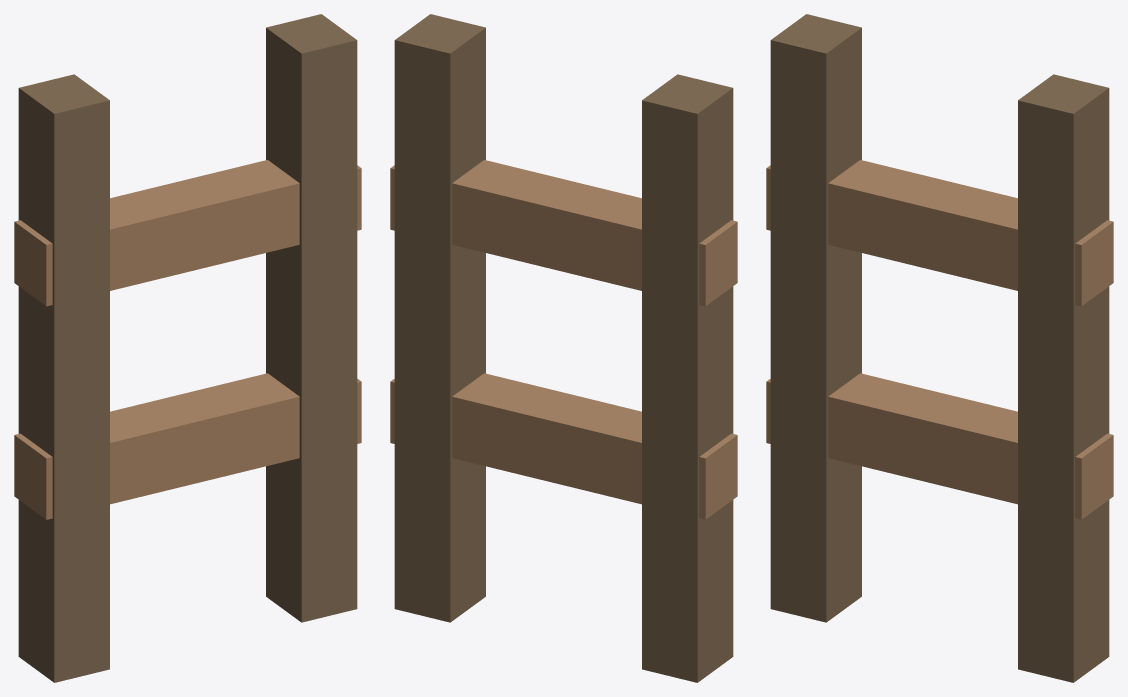
File: fence.wood-old.glb
The picture shows the model from 3 angles, left to right: view 1: azimuth 30°, elevation 25°; view 2: azimuth 150°, elevation 25°; view 3: azimuth 330°, elevation 25°; orthographic projection.
Parts seen in each view (by area): view 1: fence post; view 2: fence post; view 3: fence post.
Part boxes in pixels (box(x1,y1,x2,y2)): fence post: box(14, 14, 361, 682); fence post: box(390, 14, 737, 682); fence post: box(766, 14, 1113, 682).
Bounding box in the file's own units: 0.51 × 0.88 × 0.1.
